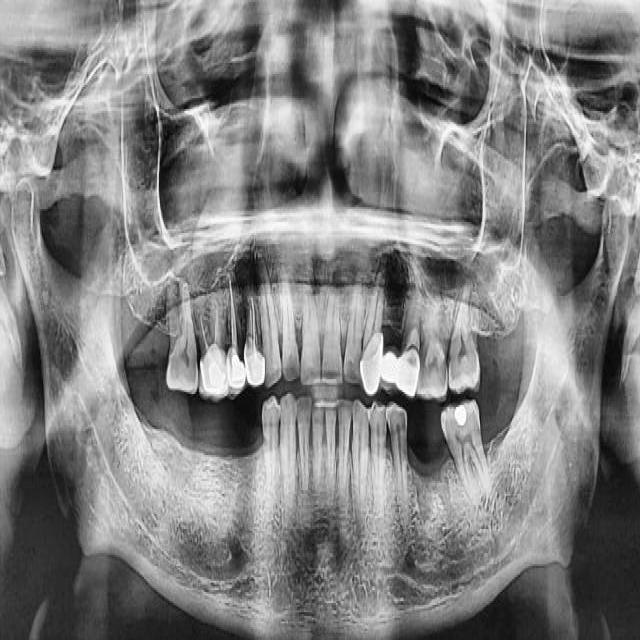karies: (364, 339, 418, 406), (202, 346, 265, 395), (443, 393, 474, 432)
